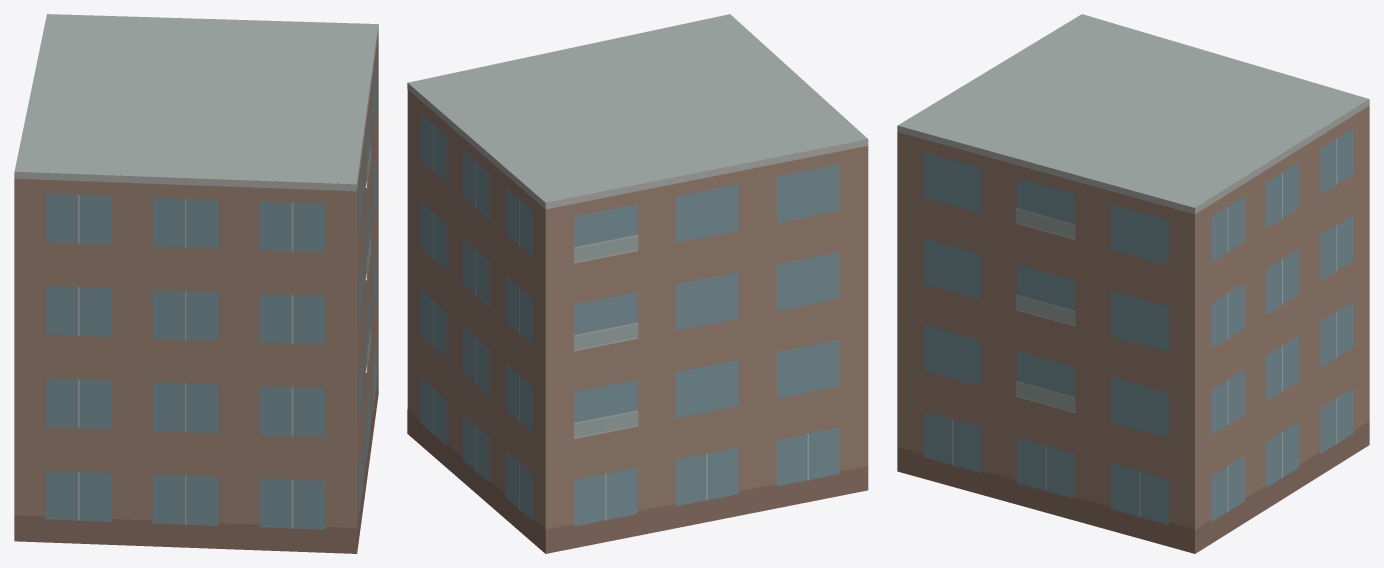
File: survey-upis-33011205.glb
3 views of the same model, side by side, from view 1: azimuth 30°, elevation 25°; view 2: azimuth 150°, elevation 25°; view 3: azimuth 270°, elevation 25° (orthographic). The views are drawn at different scales.
Parts seen in each view (by area): view 1: survey-upis-33011205.tmp; view 2: survey-upis-33011205.tmp; view 3: survey-upis-33011205.tmp.
Boxes of the visible parts, box(x1,y1,x2,y2) form: survey-upis-33011205.tmp: box(14, 14, 378, 553); survey-upis-33011205.tmp: box(407, 14, 868, 553); survey-upis-33011205.tmp: box(897, 14, 1369, 553).
Bounding box in the file's own units: 15.64 × 13 × 16.09.
